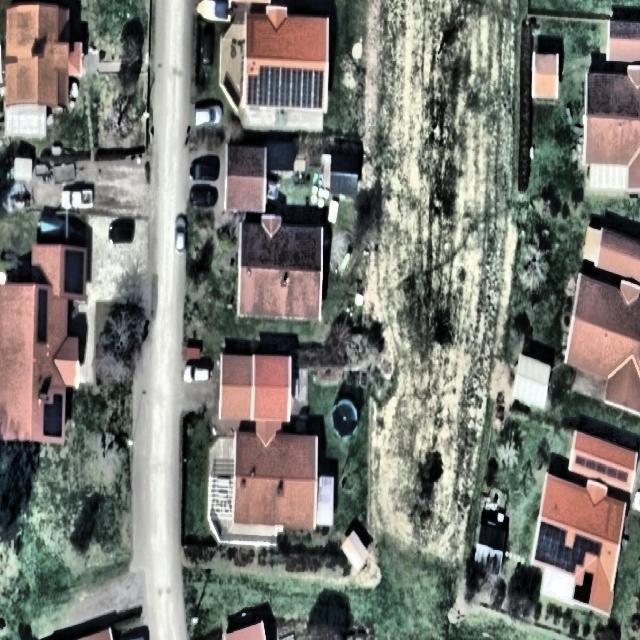roof_pv: (247, 66, 327, 107), (531, 519, 567, 572), (570, 454, 628, 483), (563, 532, 604, 572), (64, 246, 86, 292), (33, 286, 50, 342), (44, 391, 64, 436), (573, 569, 595, 604)
